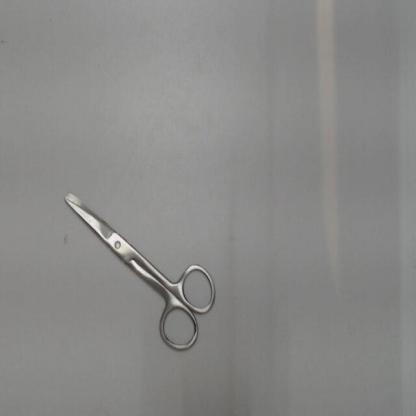Dressing Scissors: (54, 180, 226, 362)
